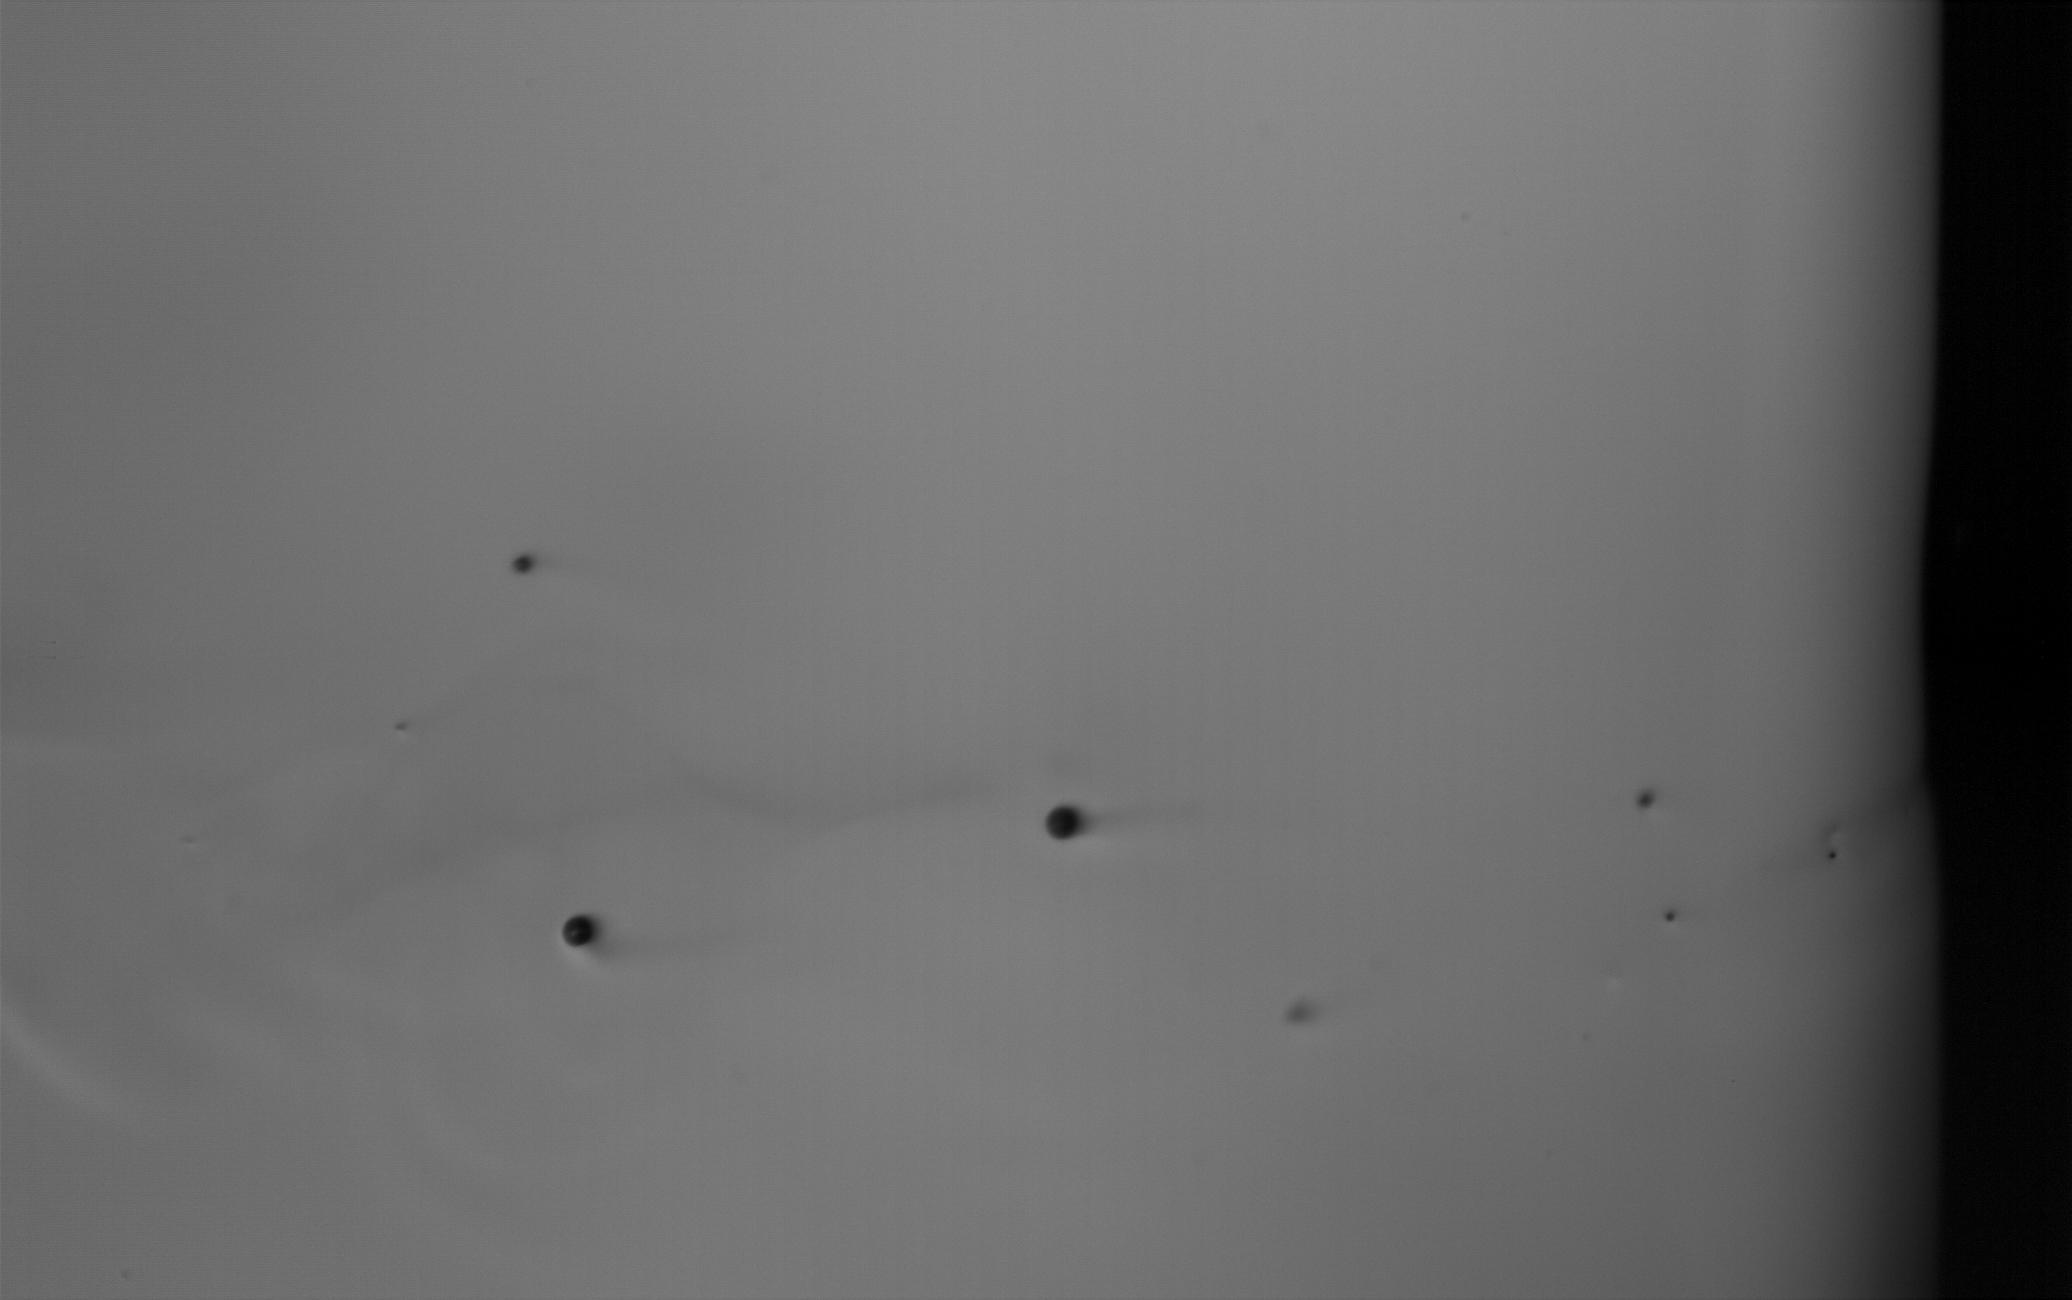Blurry: (1285, 999, 1317, 1027), (382, 711, 415, 737)
ClassicalEvaporation: (561, 912, 602, 951), (1046, 803, 1085, 843), (514, 551, 534, 574), (1638, 789, 1653, 807), (1665, 911, 1674, 921), (1828, 851, 1835, 860)
